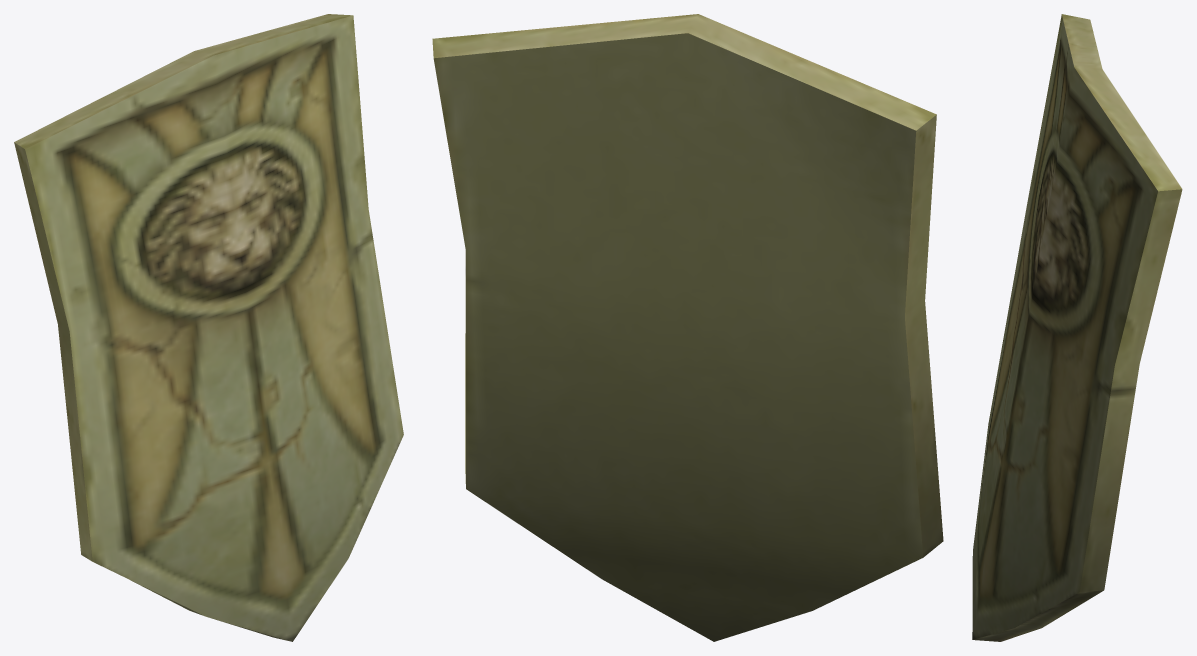
Rendered from Weapon03_Object_LostTemple.FBX.
3 renders of one model, left to right at view 1: azimuth 30°, elevation 25°; view 2: azimuth 150°, elevation 25°; view 3: azimuth 270°, elevation 25°, orthographic. The views are drawn at different scales.
Parts seen in each view (by area): view 1: Weapon03_Object_LostTemple; view 2: Weapon03_Object_LostTemple; view 3: Weapon03_Object_LostTemple.
Boxes of the visible parts, x1,y1,x2,y2 form: Weapon03_Object_LostTemple: (14,14,403,641); Weapon03_Object_LostTemple: (432,14,943,641); Weapon03_Object_LostTemple: (972,14,1182,641).
Size of the model in its own units: 795 by 1099 by 372.
1 material, 1 textured.
